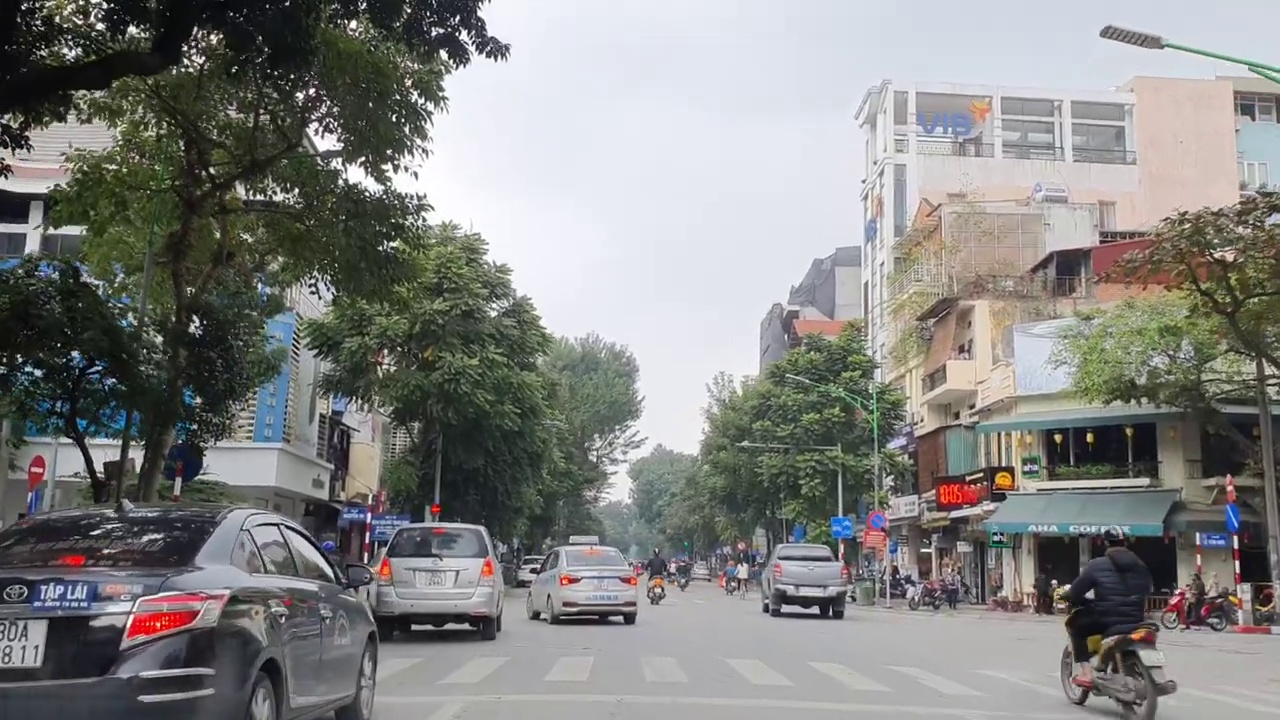person: (425, 567, 445, 584), (797, 582, 821, 596)
